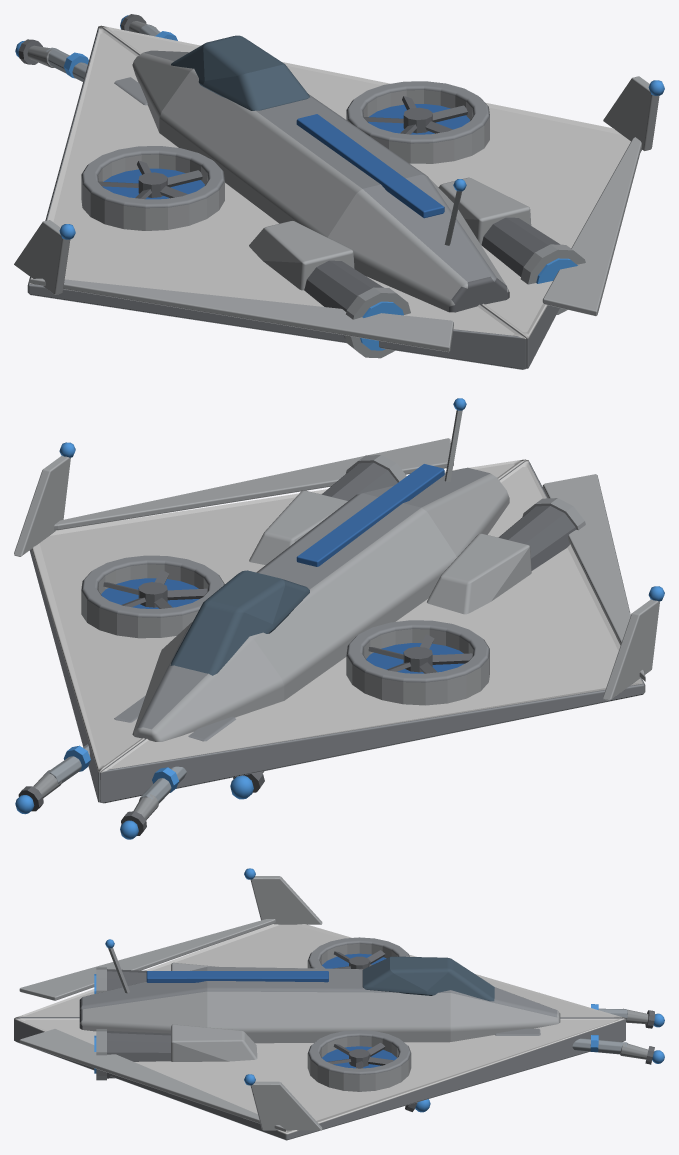
The model's file is lattice_builder_air.glb.
3 renders of one model, top to bottom at view 1: azimuth 30°, elevation 25°; view 2: azimuth 150°, elevation 25°; view 3: azimuth 270°, elevation 25°, orthographic. The views are drawn at different scales.
Visible parts, largest first — view 1: Body; view 2: Body; view 3: Body.
Boxes of the visible parts, x1=… form: Body: x1=14, y1=14, x2=664, y2=369; Body: x1=14, y1=398, x2=664, y2=839; Body: x1=14, y1=868, x2=664, y2=1140.
Size of the model in its own units: 1.68 by 0.6245 by 2.14.
